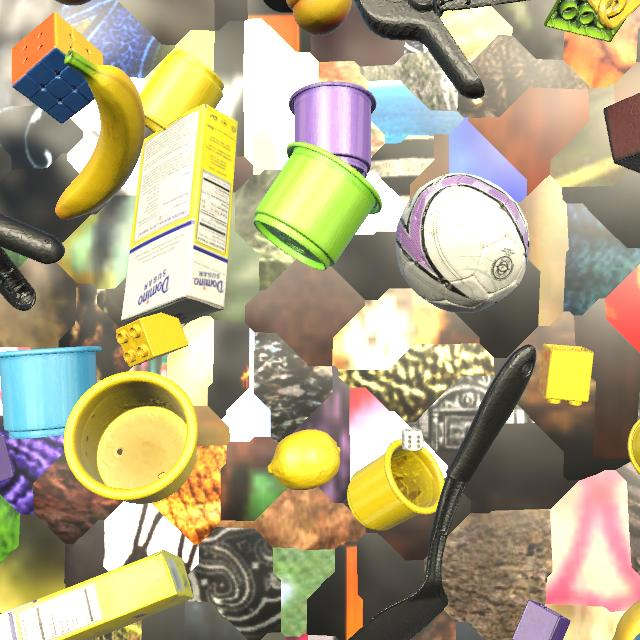ycb_004_sugar_box: (121, 104, 238, 324), (0, 550, 194, 640)
ycb_006_mustard_bottle: (612, 600, 640, 640)
ycb_011_banana: (55, 50, 145, 220)
ycb_014_lemon: (267, 429, 341, 490)
ycb_015_peach: (286, 0, 352, 36), (55, 0, 91, 6)
